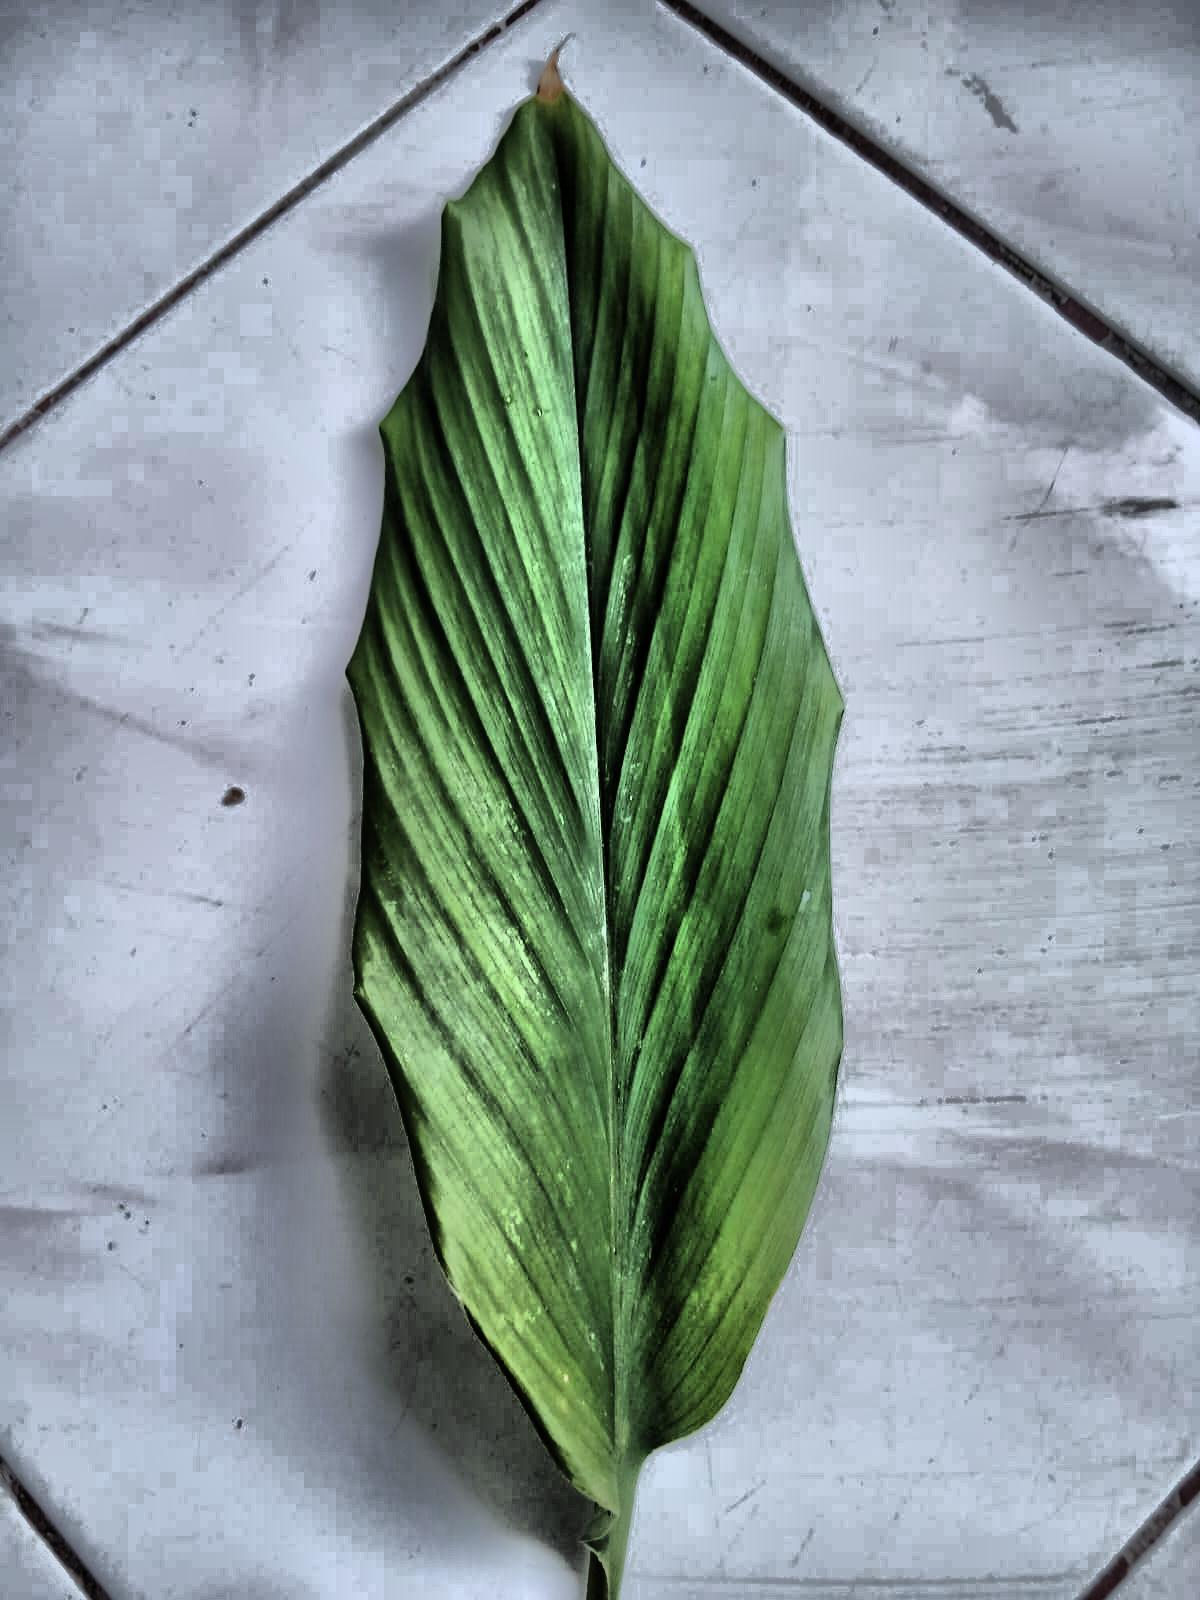daun kunyit: (348, 73, 842, 1599)
